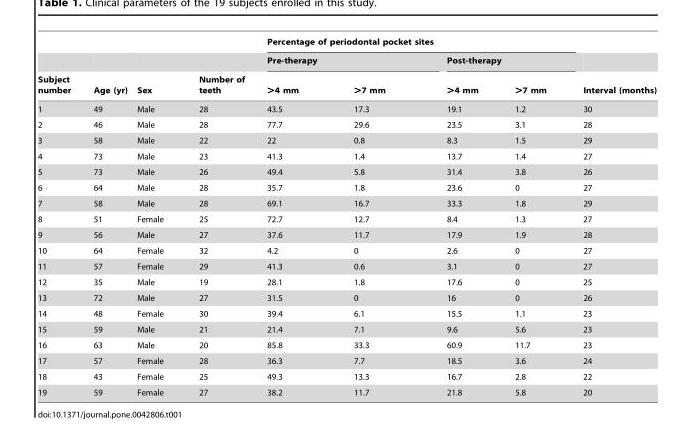table: (37, 37, 656, 396)
table column: (564, 37, 656, 396), (325, 37, 415, 396), (415, 37, 495, 396), (180, 37, 255, 396), (255, 37, 325, 396), (495, 37, 564, 396), (81, 37, 131, 396), (131, 37, 180, 396), (37, 37, 81, 396)
table column header: (37, 37, 656, 99)
table row: (37, 69, 656, 99), (37, 50, 656, 69), (37, 99, 656, 116), (37, 116, 656, 132), (37, 132, 656, 148), (37, 163, 656, 179), (37, 179, 656, 195), (37, 195, 656, 211), (37, 226, 656, 242), (37, 242, 656, 258), (37, 258, 656, 274), (37, 289, 656, 305), (37, 305, 656, 321), (37, 321, 656, 337), (37, 352, 656, 368), (37, 368, 656, 384), (37, 148, 656, 163), (37, 211, 656, 226), (37, 274, 656, 289), (37, 337, 656, 352), (37, 37, 656, 50), (37, 384, 656, 396)
table spanning cell: (564, 37, 656, 99), (180, 37, 255, 99), (255, 37, 564, 50), (81, 37, 131, 99), (255, 50, 415, 69), (131, 37, 180, 99), (415, 50, 564, 69), (37, 37, 81, 99)
